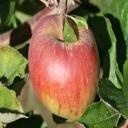apple: (27, 13, 100, 119)
